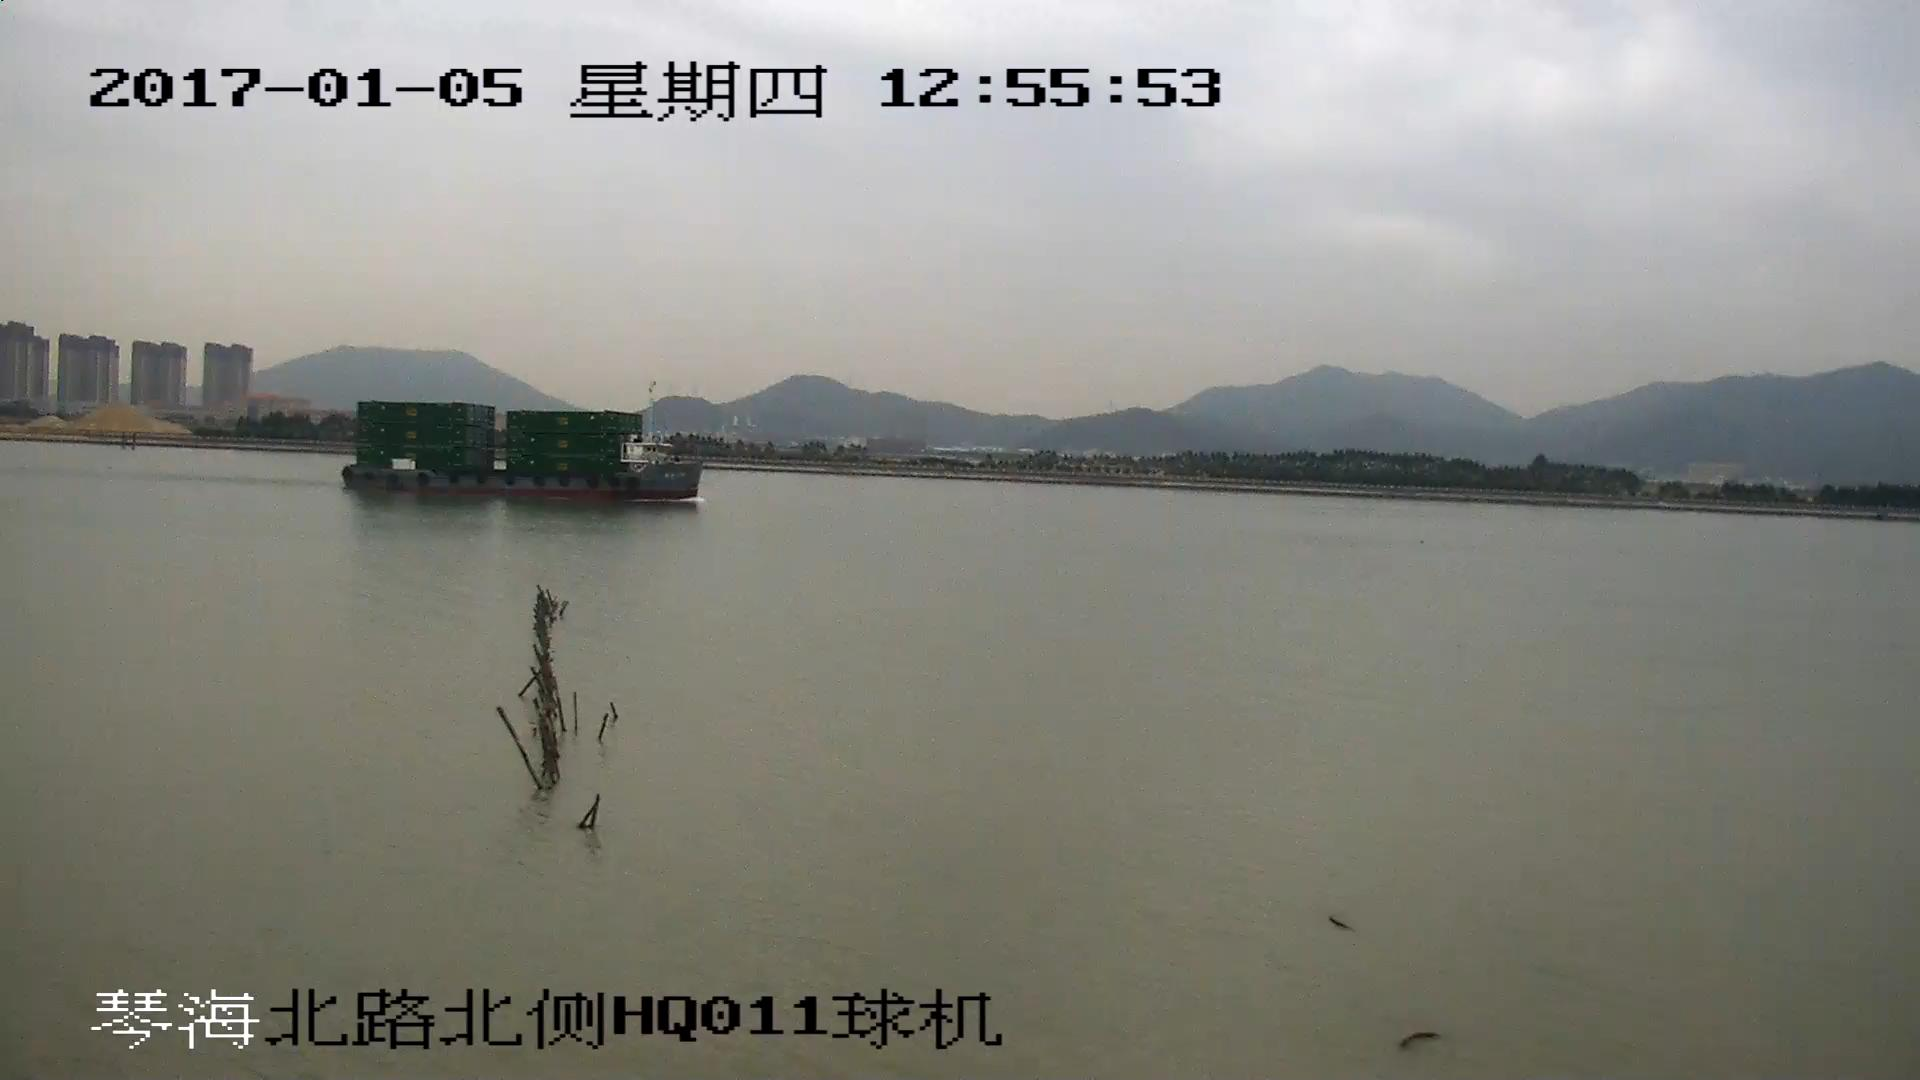container ship: (341, 402, 704, 503)
